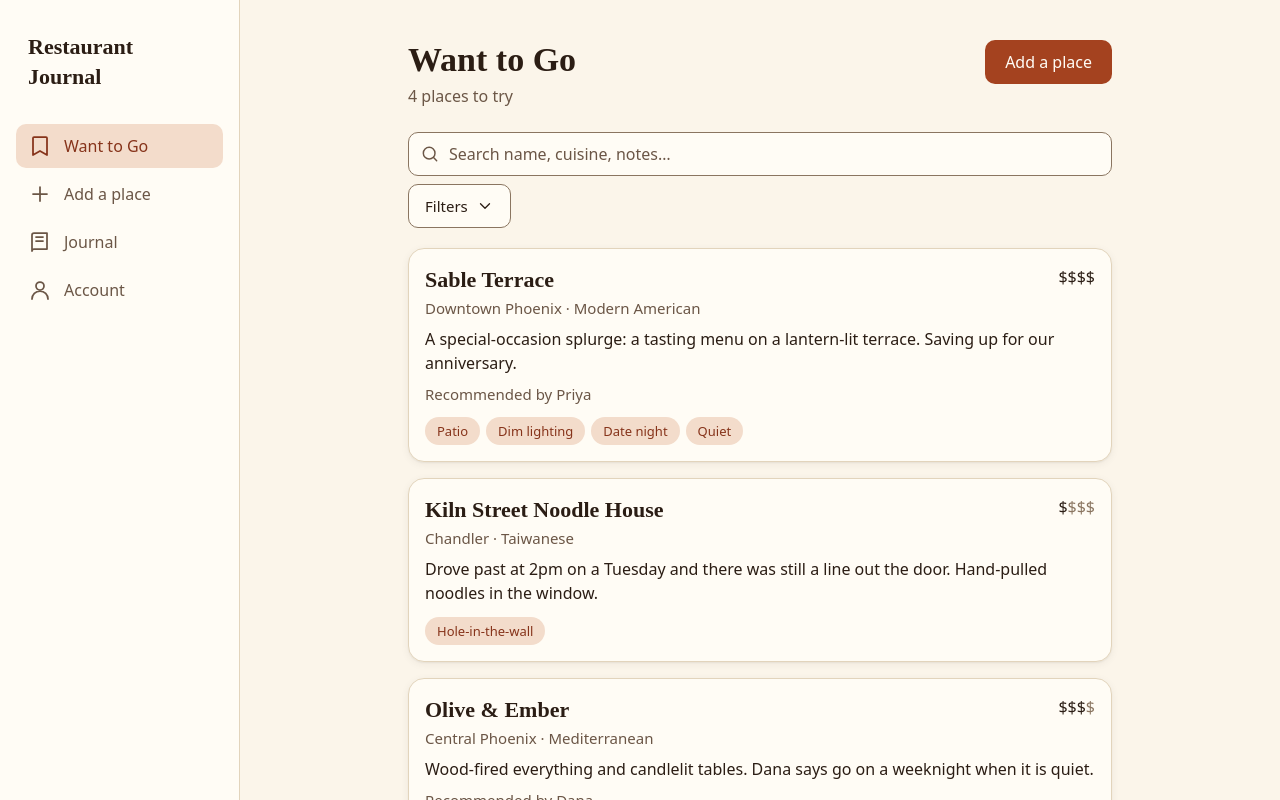
Test case: Want to Go search and filters › searches names, notes and recommenders, announcing the result count
The width and height of the screenshot is (1280, 800).
Check: the text "4 places to try" is shown, box x1=408 y1=85 x2=513 y2=107
Type "dana" into the search field named "Search your saved places". click: (760, 154)
box: x1=408 y1=132 x2=1112 y2=176
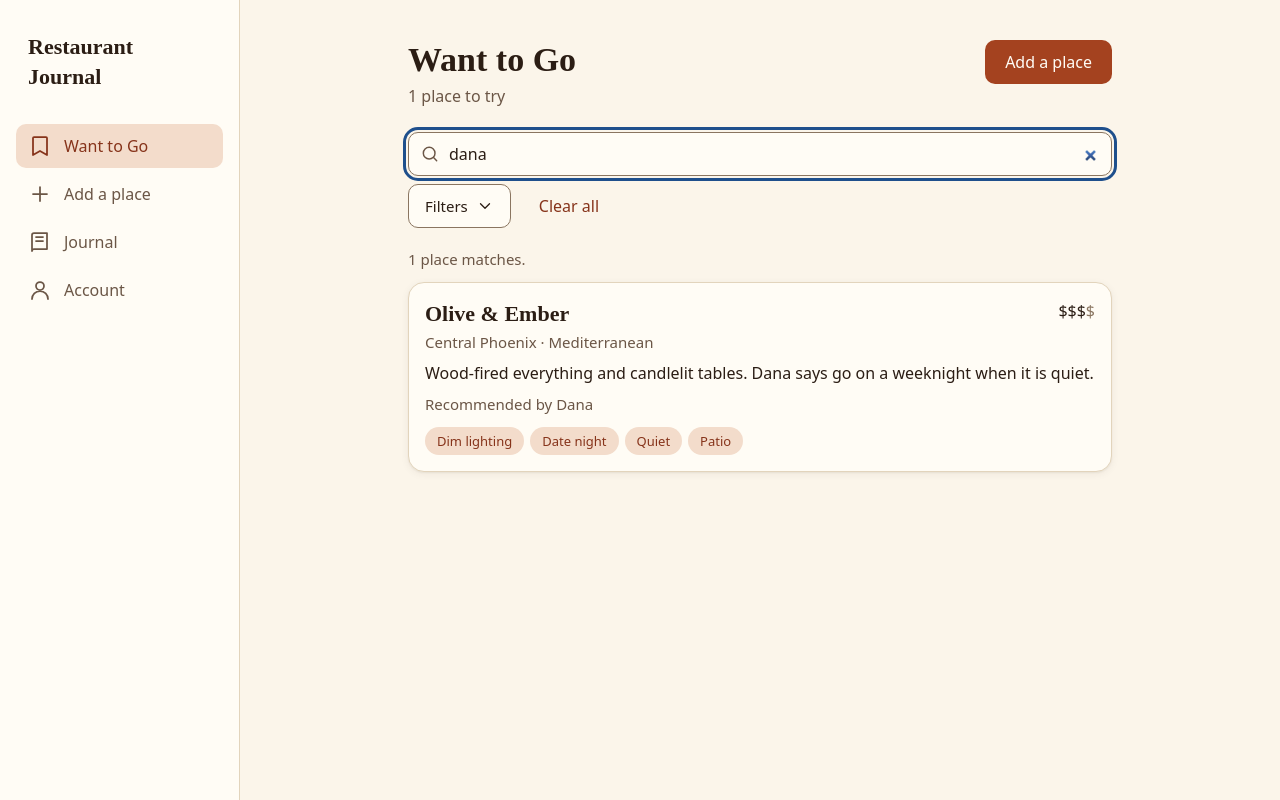
Check: the text "1 place matches." is shown, box x1=408 y1=249 x2=526 y2=269
Check: the text "1 place to try" is shown, box x1=408 y1=85 x2=505 y2=107
